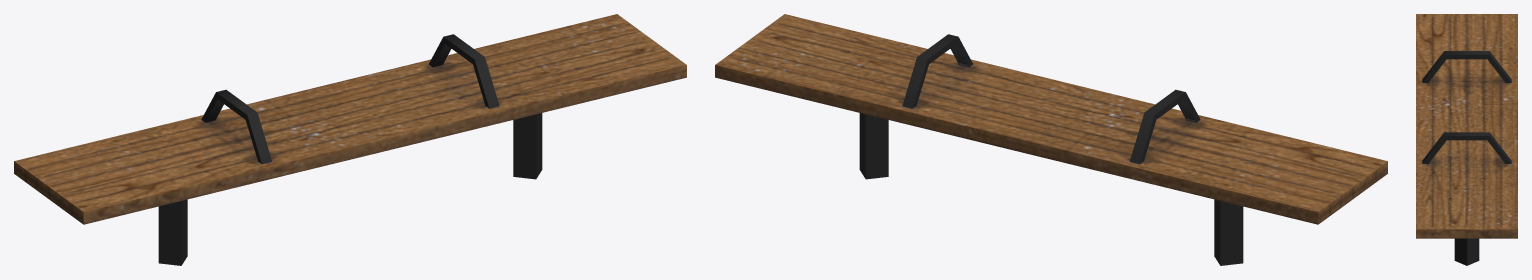
File: jctlowBenchA.fbx
3 renders of one model, left to right at view 1: azimuth 30°, elevation 25°; view 2: azimuth 150°, elevation 25°; view 3: azimuth 270°, elevation 25°, orthographic. The views are drawn at different scales.
Parts seen in each view (by area): view 1: jctlowBenchA; view 2: jctlowBenchA; view 3: jctlowBenchA.
Part boxes in pixels (x1,y1,x2,y2): jctlowBenchA: (14, 14, 686, 265); jctlowBenchA: (715, 14, 1387, 265); jctlowBenchA: (1416, 14, 1517, 265).
Size of the model in its own units: 250 by 56.24 by 50.
1 material, 1 textured.
